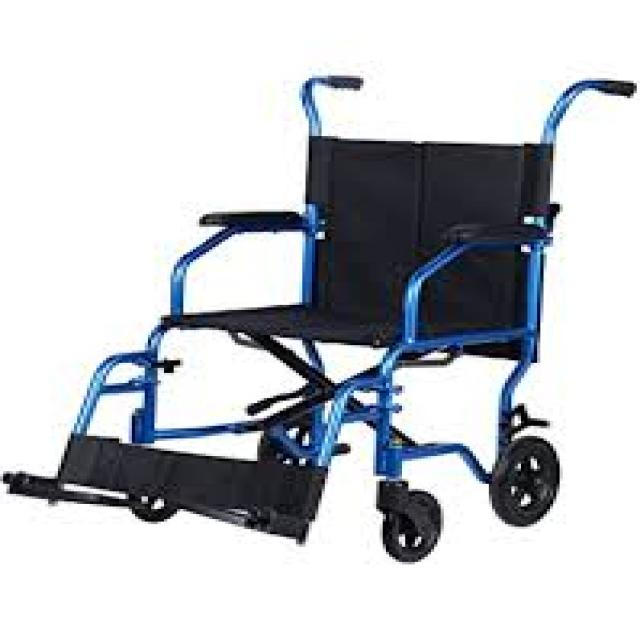wheelchairs: (19, 58, 630, 562)
